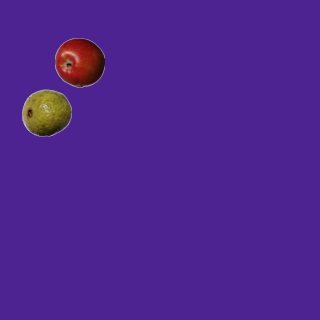Apple Braeburn: (54, 37, 104, 87)
Guava: (21, 87, 71, 137)
